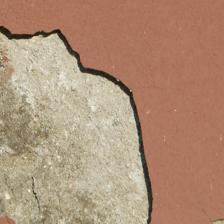Crack: (5, 25, 158, 223)
